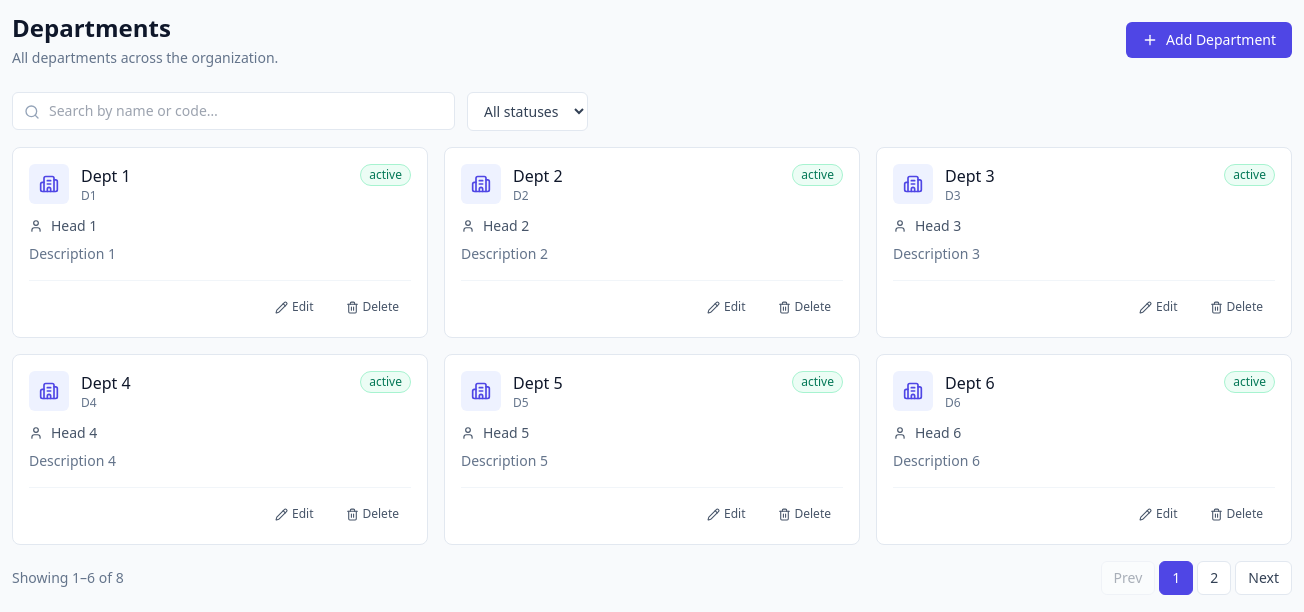
Test: DepartmentsPage - Filtering and Interaction › resets pagination to page 1 when search or status filter changes
The width and height of the screenshot is (1304, 612).
Check: the text "Dept 1" is shown, box [81,164,131,188]
Note: Go to page 2
Click the button "Next": (1264, 578) [1235,561,1292,595]
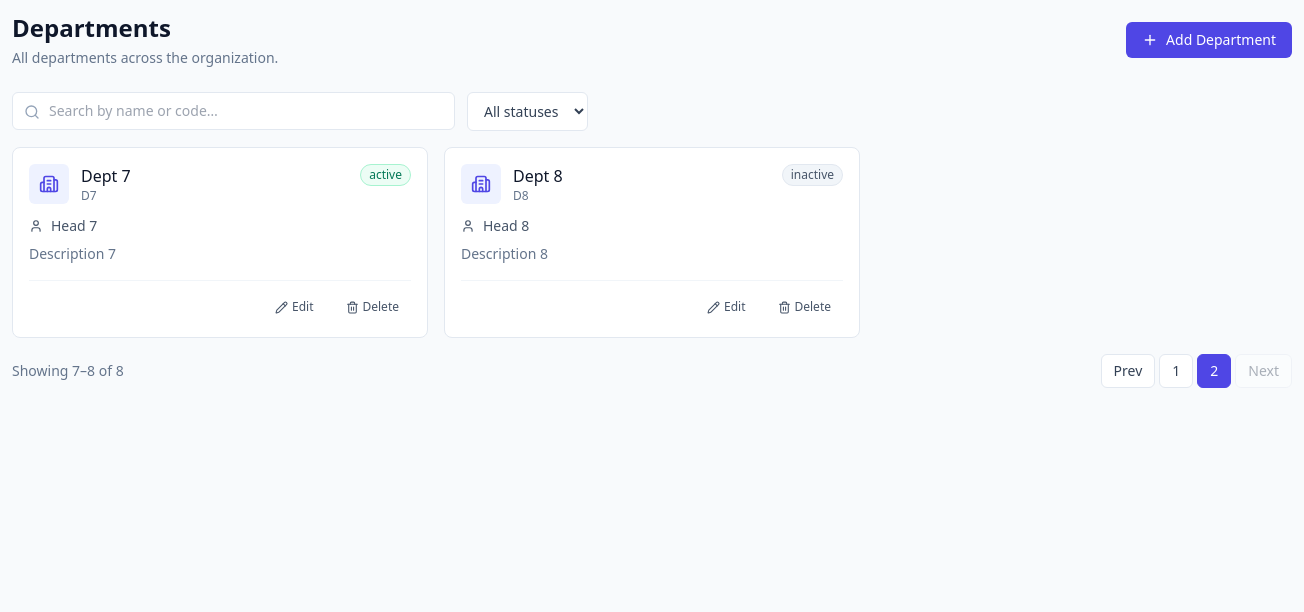
Check: the text "Dept 7" is shown, box [81,164,131,188]
Check: the link "Dept 1" is gone
Select "Active" in the dropdown named "filter by department status": (528, 112) [467,92,588,131]
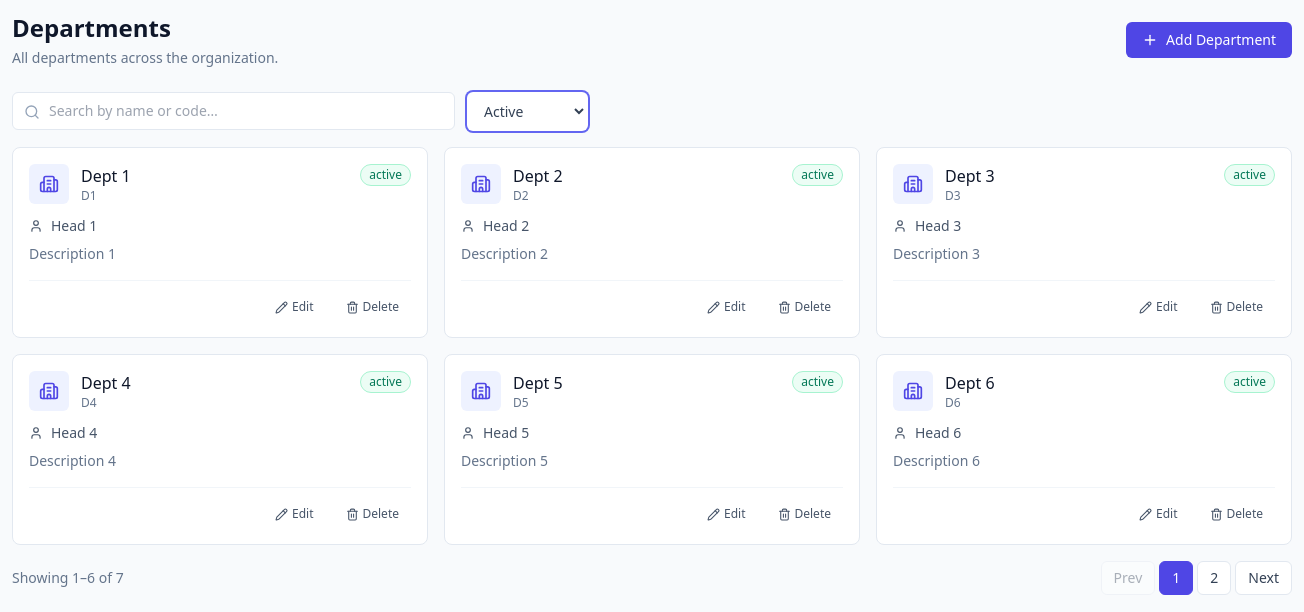
Check: the text "Dept 1" is shown, box [81,164,131,188]
Note: Go to page 2 again
Click the button "Next": (1264, 578) [1235,561,1292,595]
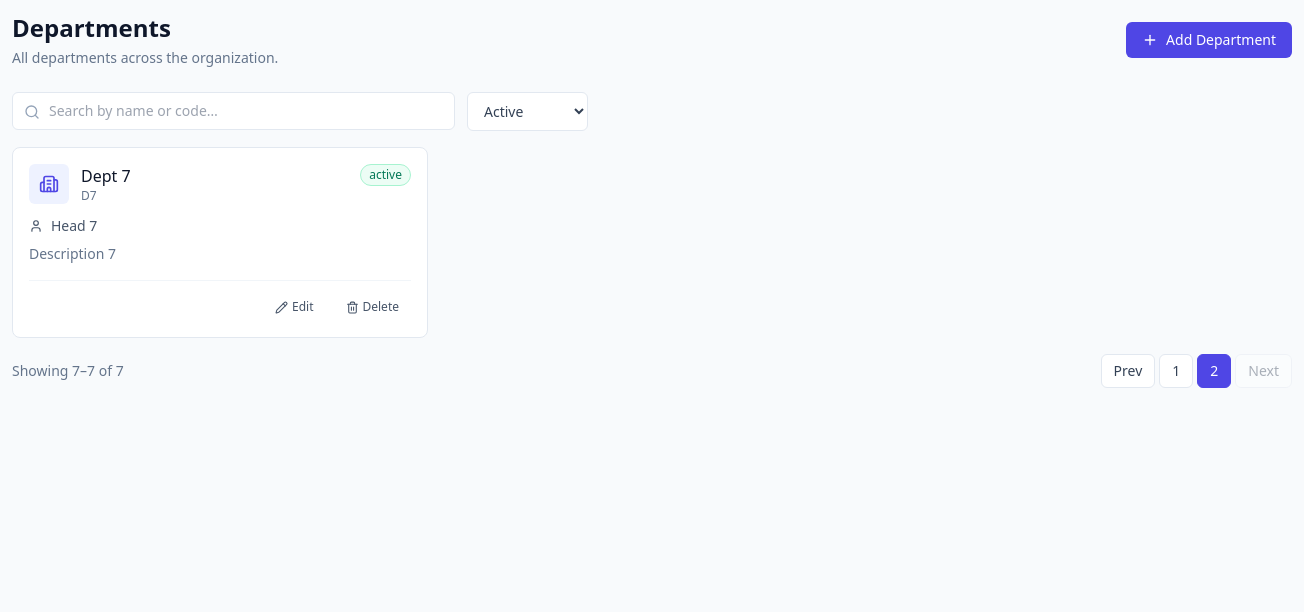
Check: the text "Dept 7" is shown, box [81,164,131,188]
In the field with placeholder "Search by name or code…": (234, 111) [12,92,455,130], type "Dept"
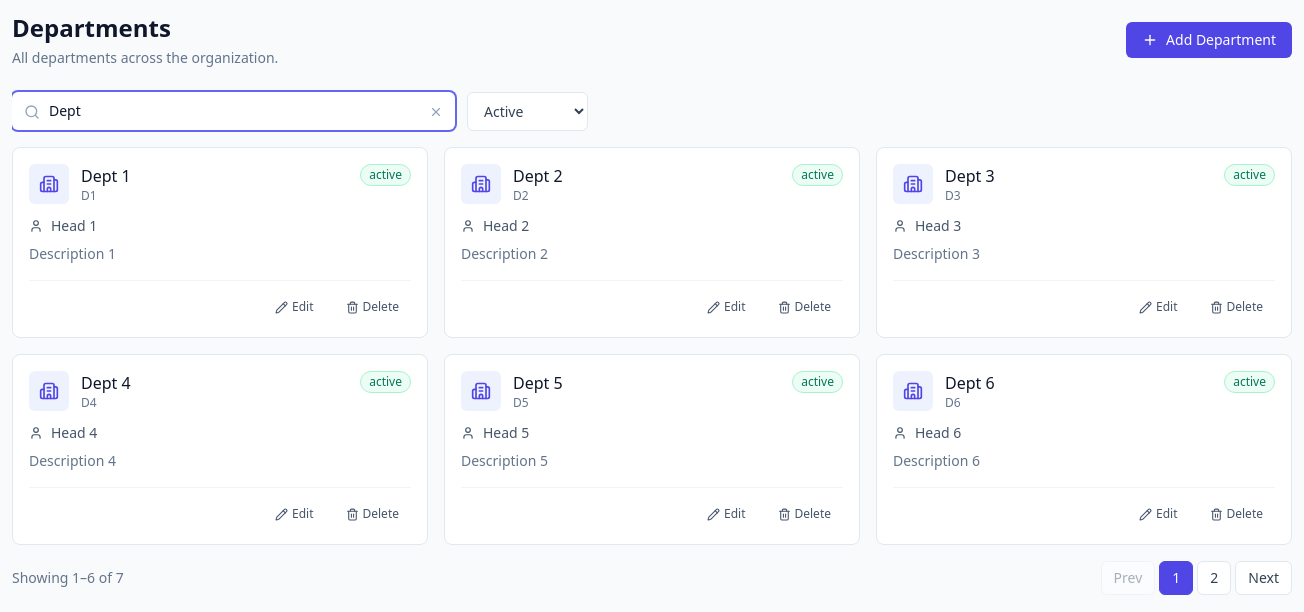
Check: the text "Dept 1" is shown, box [81,164,131,188]
